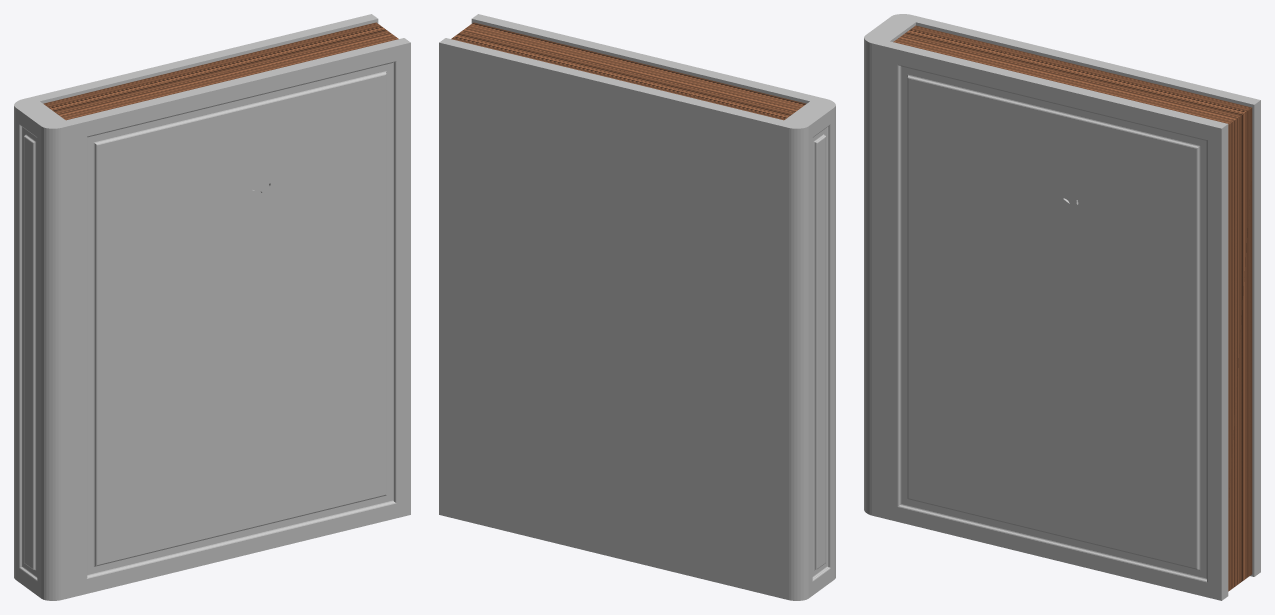
Rendered from neutralbook.fbx.
3 views of the same model, side by side, from view 1: azimuth 30°, elevation 25°; view 2: azimuth 150°, elevation 25°; view 3: azimuth 330°, elevation 25° (orthographic).
Parts seen in each view (by area): view 1: Cube.014; view 2: Cube.014; view 3: Cube.014.
Boxes of the visible parts, x1=… form: Cube.014: x1=14, y1=14, x2=410, y2=600; Cube.014: x1=439, y1=14, x2=835, y2=600; Cube.014: x1=864, y1=14, x2=1260, y2=600.
Bounding box in the file's own units: 1.61 × 2 × 0.3.
